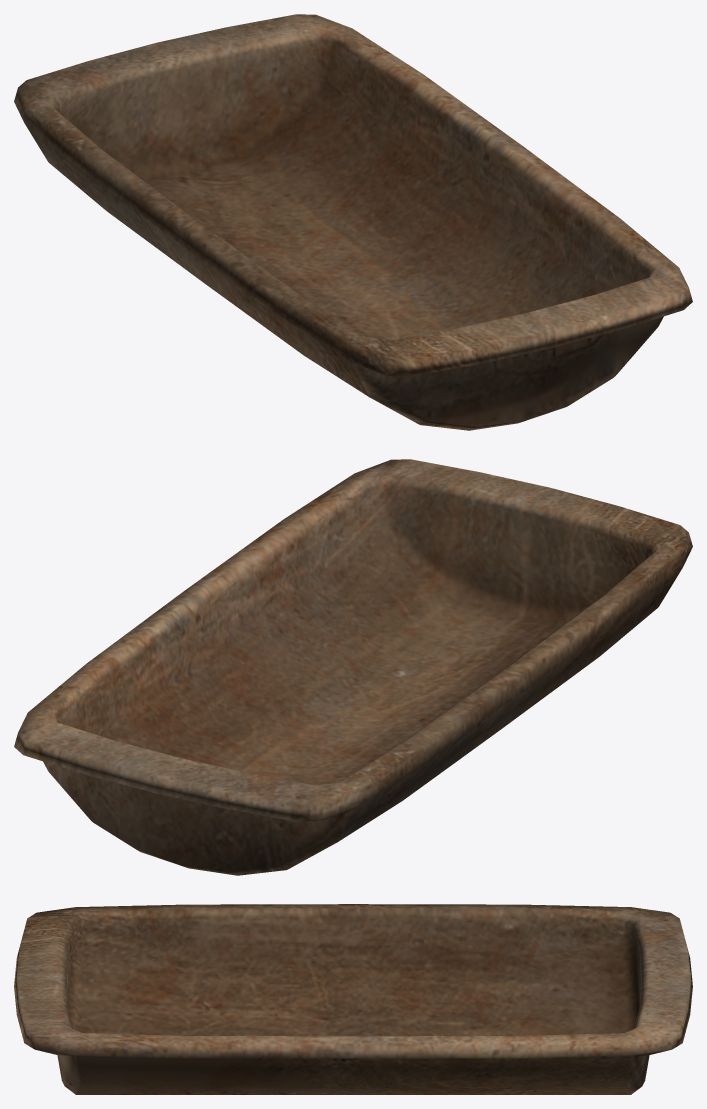
File: village_washtub.fbx
3 renders of one model, top to bottom at view 1: azimuth 30°, elevation 25°; view 2: azimuth 150°, elevation 25°; view 3: azimuth 270°, elevation 25°, orthographic. The views are drawn at different scales.
Visible parts, largest first — view 1: village_washtub; view 2: village_washtub; view 3: village_washtub.
Part boxes in pixels (<box>): village_washtub: <box>14,14,692,430</box>; village_washtub: <box>14,459,692,875</box>; village_washtub: <box>14,904,692,1094</box>.
Bounding box in the file's own units: 71.34 × 23.16 × 142.
